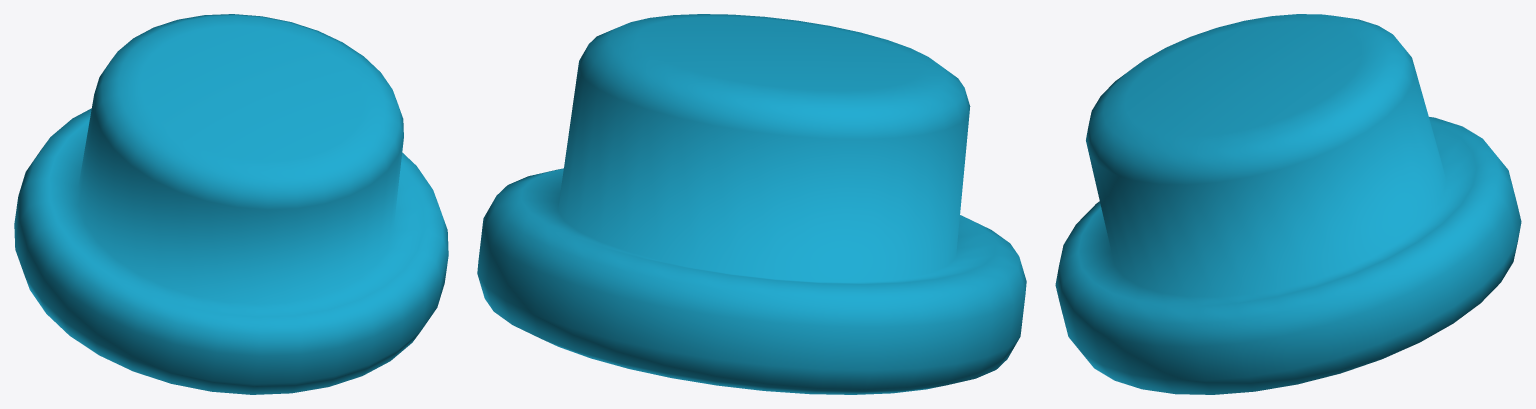
3 renders of one model, left to right at view 1: azimuth 30°, elevation 25°; view 2: azimuth 150°, elevation 25°; view 3: azimuth 270°, elevation 25°, orthographic. The views are drawn at different scales.
Parts seen in each view (by area): view 1: TopHat.001; view 2: TopHat.001; view 3: TopHat.001.
Part boxes in pixels (x1,y1,x2,y2): TopHat.001: (14,14,448,394); TopHat.001: (477,14,1026,394); TopHat.001: (1055,14,1521,394).
Size of the model in its own units: 79.4 by 53.44 by 78.78.
